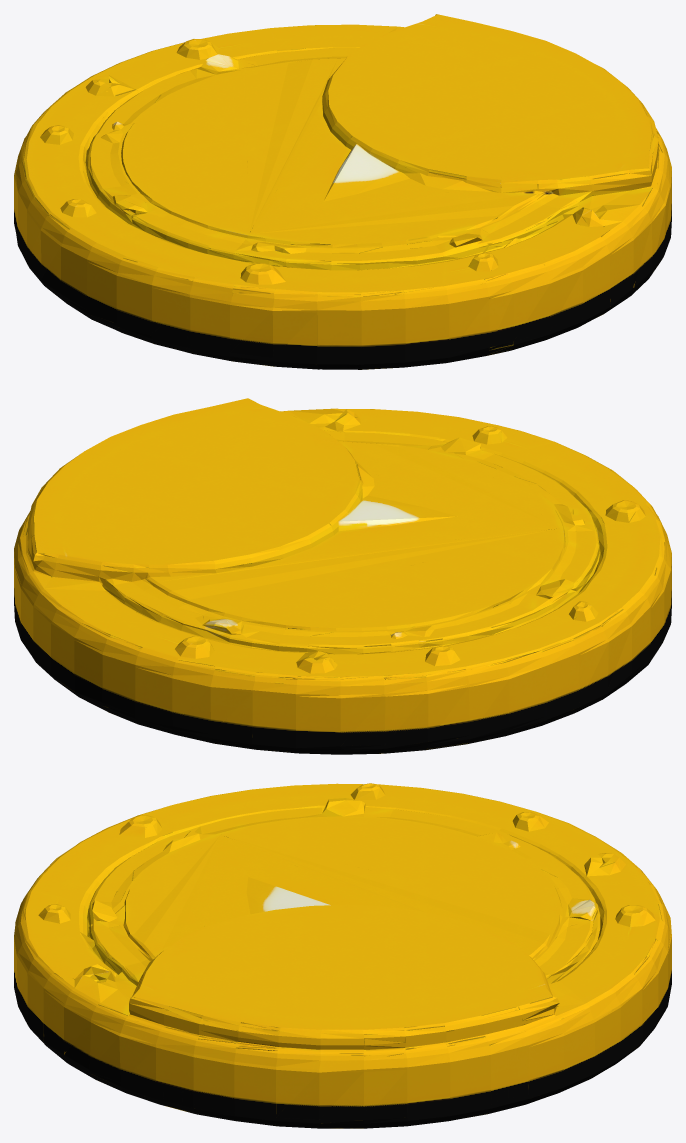
The model's file is trap-bounce.glb.
3 renders of one model, top to bottom at view 1: azimuth 30°, elevation 25°; view 2: azimuth 150°, elevation 25°; view 3: azimuth 270°, elevation 25°, orthographic.
Size of the model in its own units: 0.3162 by 0.05 by 0.3162.
1 material, 1 textured.
